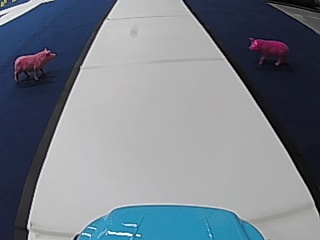pig: (11, 45, 55, 82), (246, 34, 289, 66)
